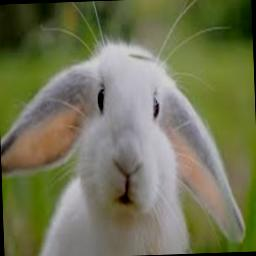rabbit: (2, 41, 245, 256)
